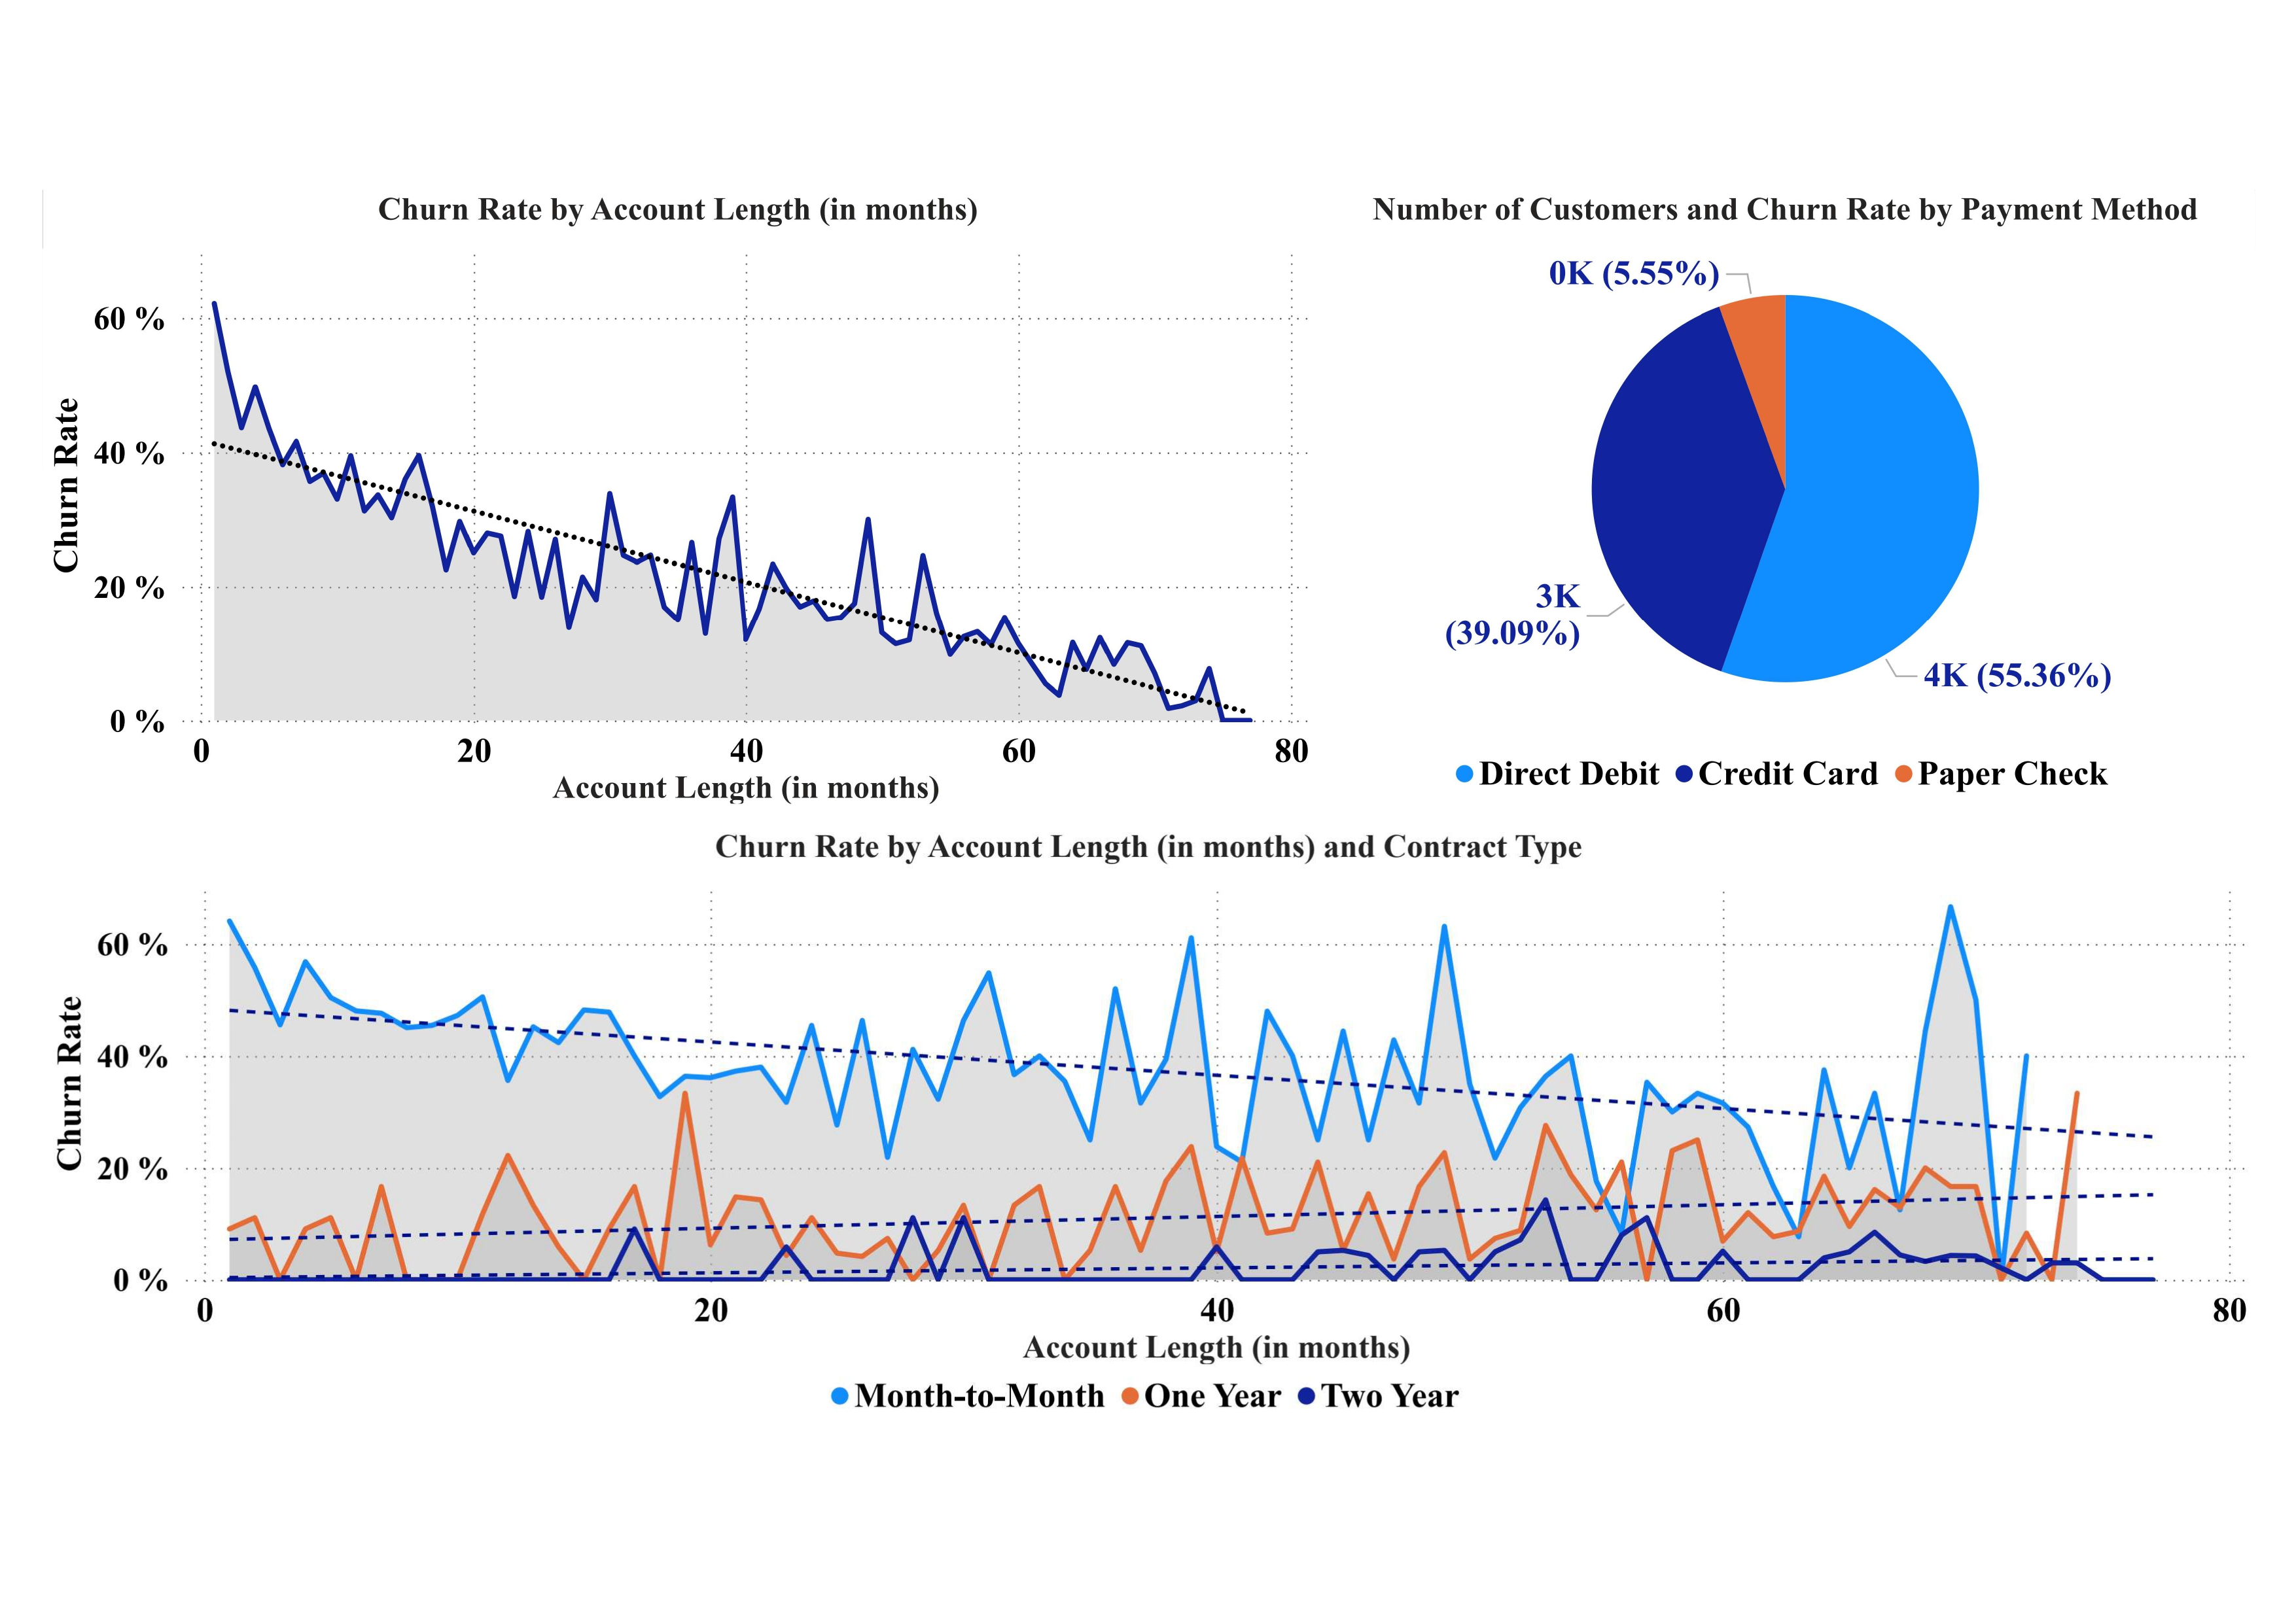

The dashboard page shown, as its layout file describes it:
{"tool":"powerbi","page":{"name":"Contract Type","canvas":[1280,720],"ordinal":4},"visuals":[{"type":"lineChart","fields":{"Y":["Databel - Data.Churn Rate"],"Category":["Databel - Data.Account Length (in months)"]},"box":[-2,0,739.5,360.5],"z":0,"group":"g1"},{"type":"lineChart","fields":{"Y":["Databel - Data.Churn Rate"],"Category":["Databel - Data.Account Length (in months)"],"Series":["Databel - Data.Contract Type"]},"box":[0,368.6,1280.2,351.2],"z":0},{"type":"group","id":"g1","title":"Group 1","box":[-2,0,1281.4,360.5],"z":1000},{"type":"pieChart","fields":{"Category":["Databel - Data.Payment Method"],"Y":["Databel - Data.Number of Customers"]},"box":[737.6,0,541.9,360.5],"z":1000,"group":"g1"}]}

Visuals, with their boxes on the page's 1280x720 design canvas (x1, y1, x2, y2). These are canvas units, not pixel positions in the 2296x1623 screenshot, which may show the page scaled, cropped or inside an application window:
lineChart - Databel - Data.Churn Rate x Databel - Data.Account Length (in months): BBox(-2, 0, 738, 360)
lineChart - Databel - Data.Churn Rate x Databel - Data.Account Length (in months): BBox(0, 369, 1280, 720)
"Group 1" group: BBox(-2, 0, 1279, 360)
pieChart - Databel - Data.Payment Method x Databel - Data.Number of Customers: BBox(738, 0, 1280, 360)
